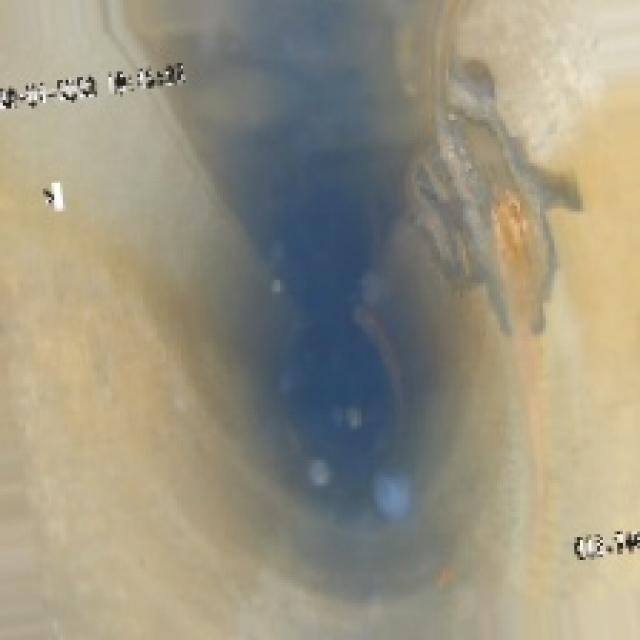pipe_surface_damage: (403, 63, 566, 346)
